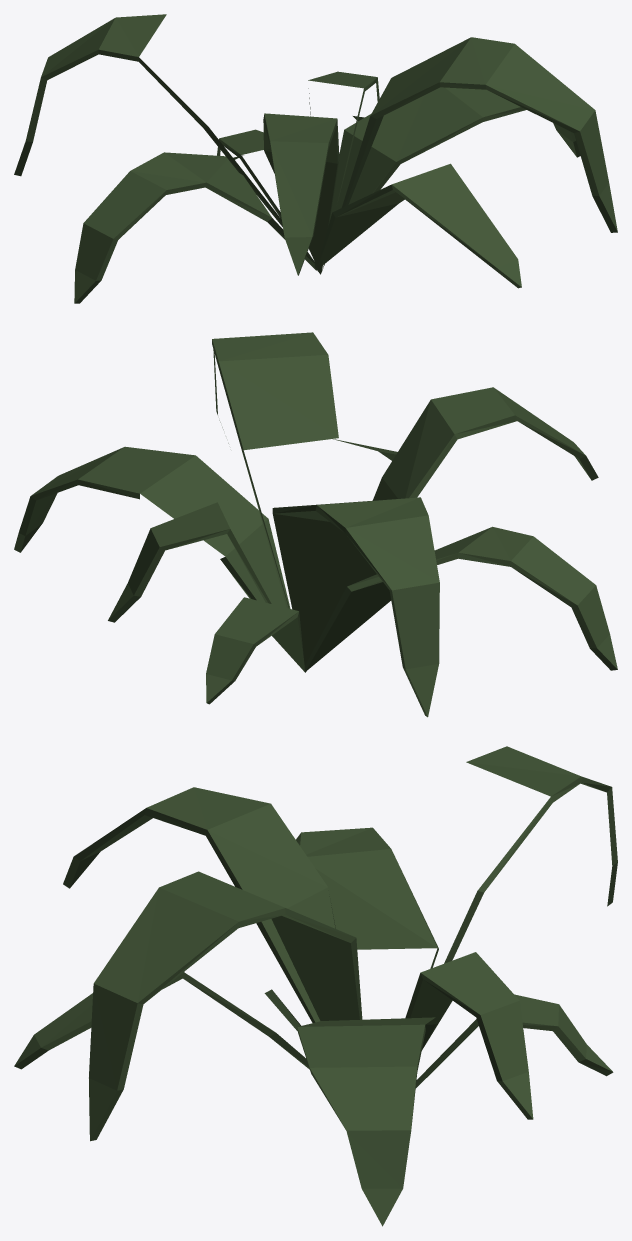
Rendered from Plant_1.glb.
3 renders of one model, top to bottom at view 1: azimuth 30°, elevation 25°; view 2: azimuth 150°, elevation 25°; view 3: azimuth 270°, elevation 25°, orthographic. The views are drawn at different scales.
Parts seen in each view (by area): view 1: Plant_1_Plane.004; view 2: Plant_1_Plane.004; view 3: Plant_1_Plane.004.
Part boxes in pixels (x1,y1,x2,y2): Plant_1_Plane.004: (14, 14, 617, 303); Plant_1_Plane.004: (14, 332, 617, 717); Plant_1_Plane.004: (14, 746, 617, 1226).
Bounding box in the file's own units: 1.2 × 0.5073 × 0.9456.
